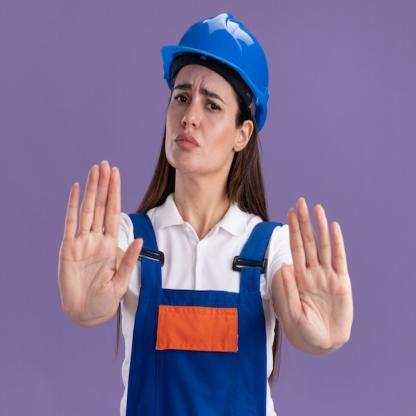stop: (58, 155, 146, 330), (280, 190, 369, 354)
